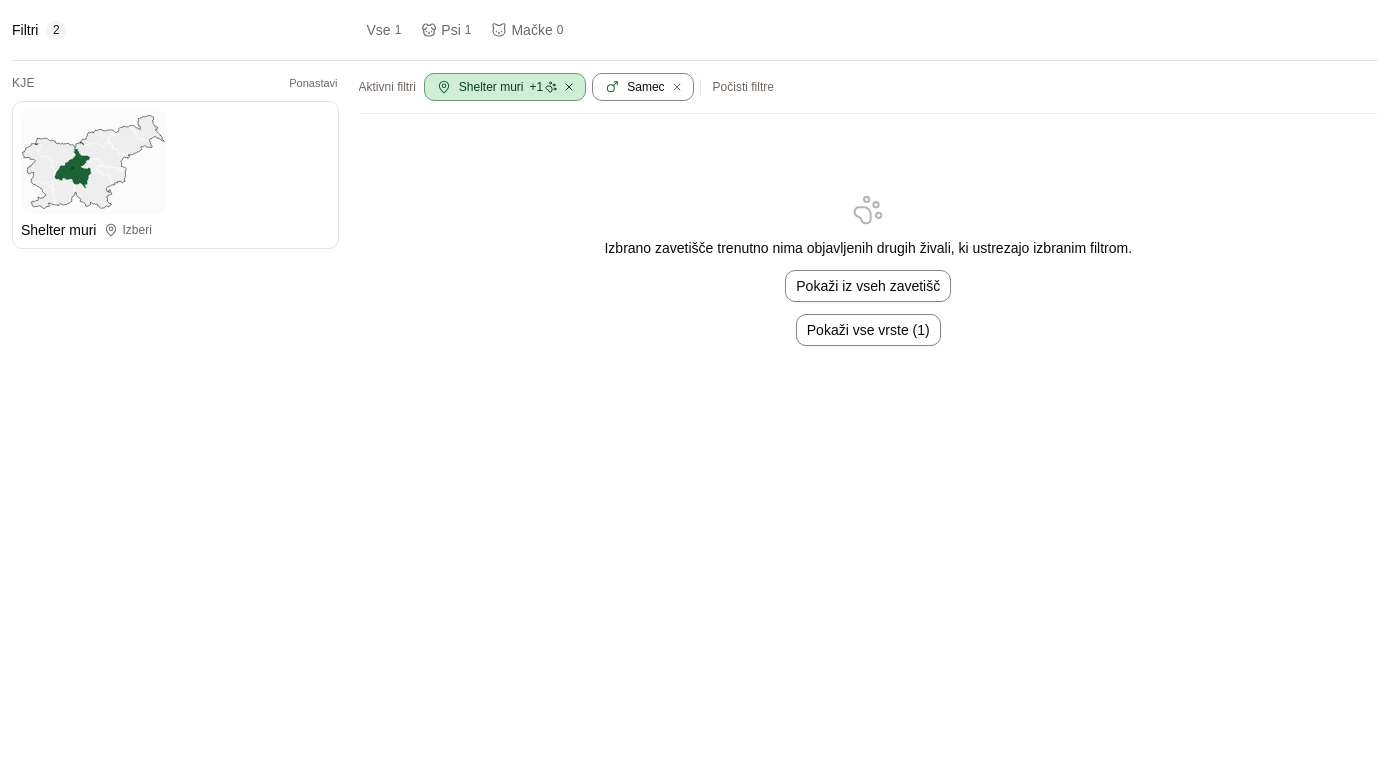
Test: animal grid empty state › offers cross-species recovery with active chips in sl
What coordinates should you click on to do the following:
click the button "Pokaži vse vrste (1)"
I would click on:
 (868, 330)
Its box is [796,314,941,346].
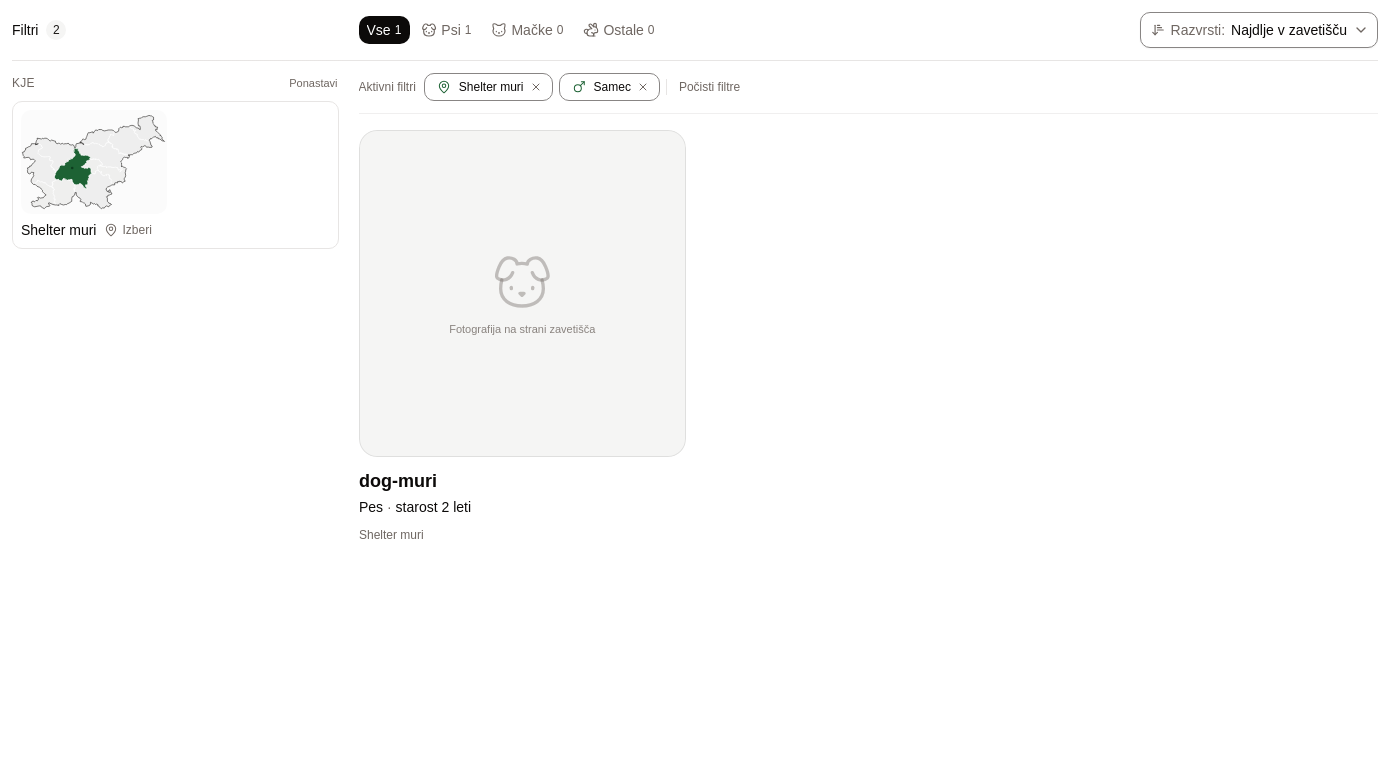
expect the element "dog-muri" is shown: met, box [358,130,685,554]
